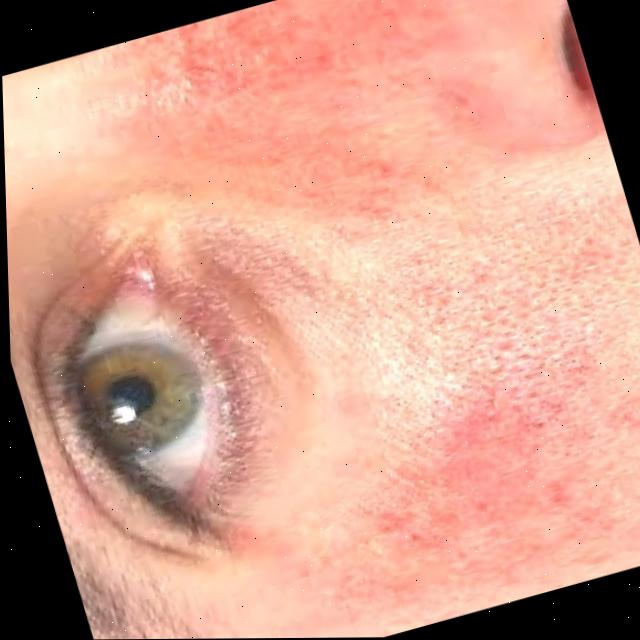Rosacea: (232, 180, 640, 637), (113, 0, 564, 274)
